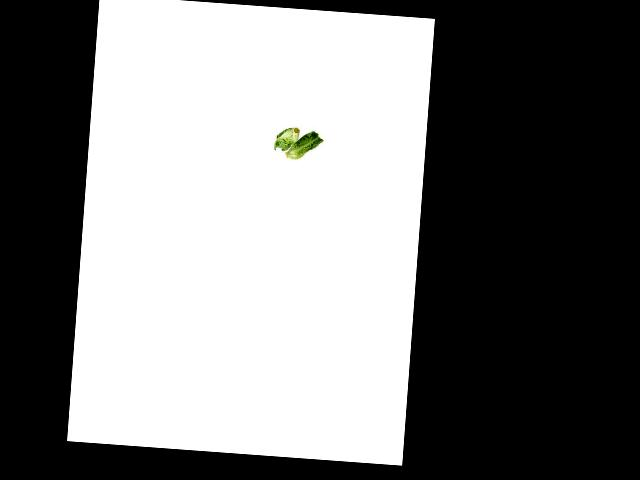lettuce: (271, 120, 322, 162)
